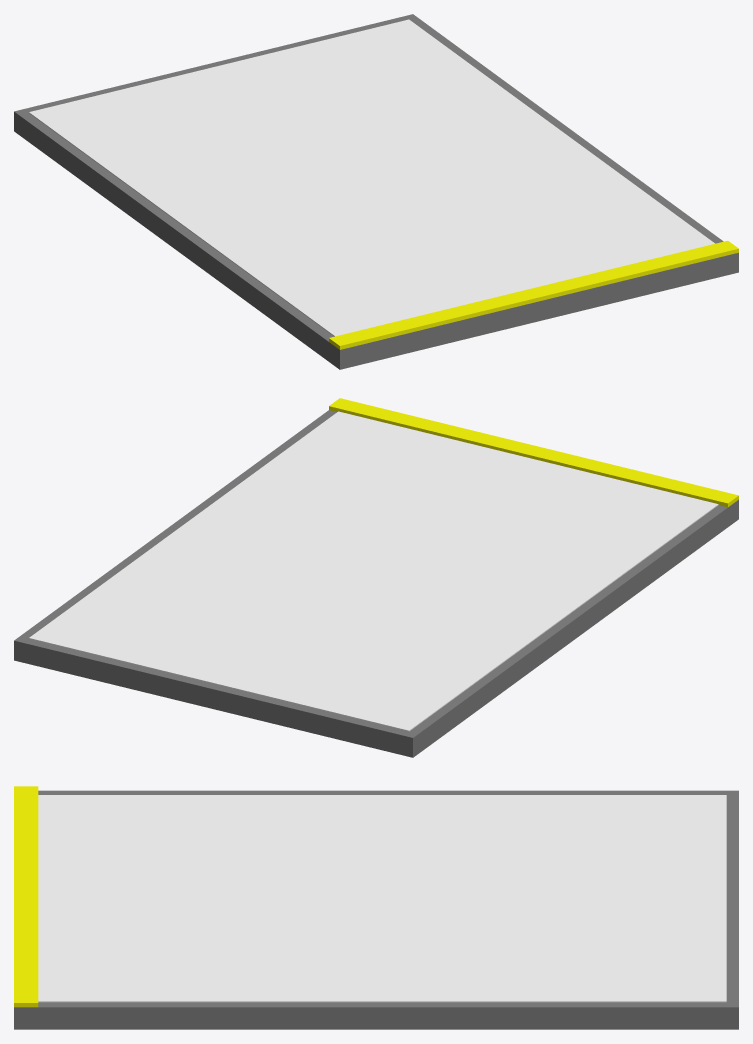
The model's file is Menu A4 fomex cán decal.obj.
The picture shows the model from 3 angles, top to bottom: view 1: azimuth 30°, elevation 25°; view 2: azimuth 150°, elevation 25°; view 3: azimuth 270°, elevation 25°; orthographic projection. The views are drawn at different scales.
Parts seen in each view (by area): view 1: menu_a4_fomex_can_decal; view 2: menu_a4_fomex_can_decal; view 3: menu_a4_fomex_can_decal.
Boxes of the visible parts, box(x1,y1,x2,y2) form: menu_a4_fomex_can_decal: box(14, 14, 738, 369); menu_a4_fomex_can_decal: box(14, 398, 738, 757); menu_a4_fomex_can_decal: box(14, 786, 738, 1029).
Bounding box in the file's own units: 0.21 × 0.012 × 0.297.
